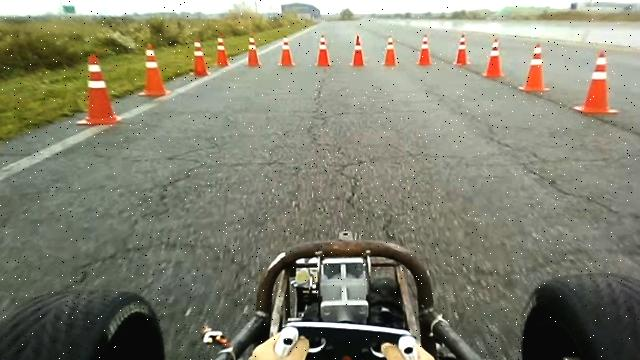red cone: (76, 53, 120, 125), (572, 50, 618, 114), (518, 42, 551, 93), (138, 43, 169, 96), (482, 38, 505, 78), (190, 39, 210, 76), (453, 34, 470, 66), (315, 34, 331, 67), (416, 34, 432, 66), (349, 34, 365, 66), (278, 36, 295, 66), (245, 36, 262, 66), (214, 37, 230, 67), (382, 36, 397, 66)
